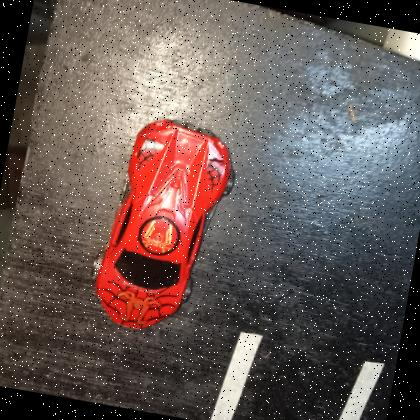Car: (95, 118, 233, 329)
